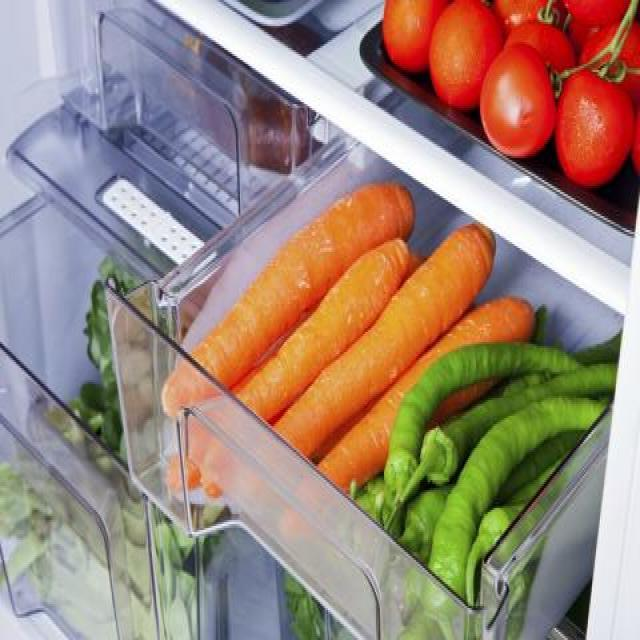carrot: (267, 217, 496, 519), (153, 181, 422, 414), (198, 237, 412, 484)
